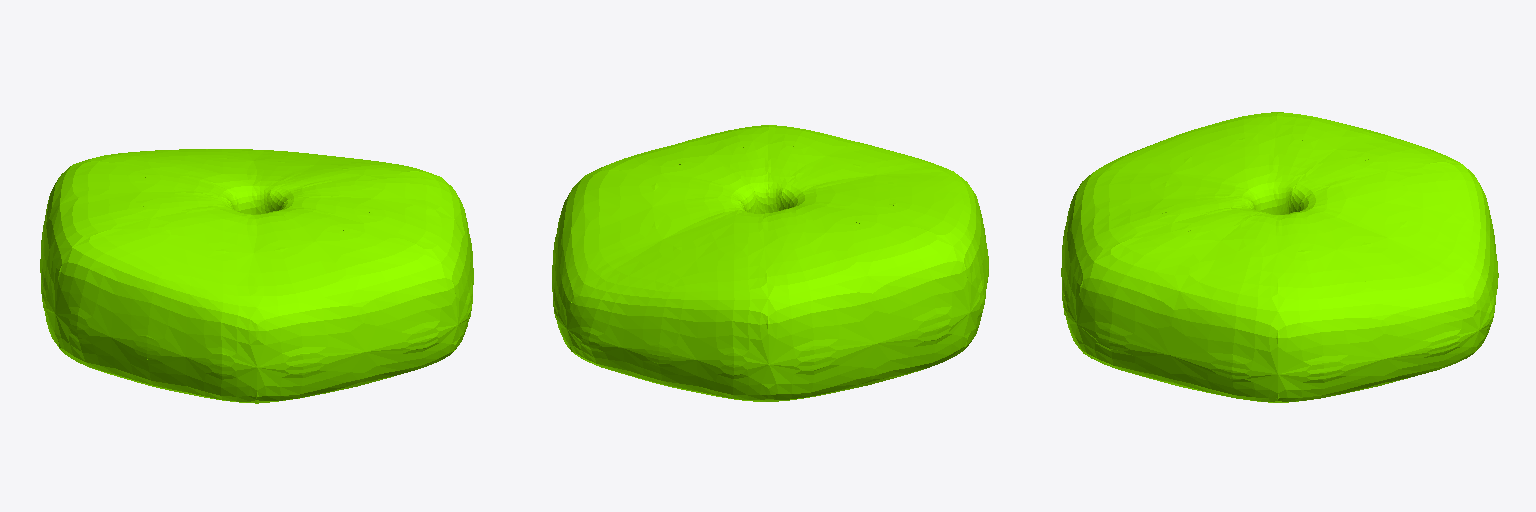
File: dirt.obj
3 renders of one model, left to right at view 1: azimuth 30°, elevation 25°; view 2: azimuth 150°, elevation 25°; view 3: azimuth 270°, elevation 25°, orthographic.
Visible parts, largest first — view 1: dirt_low; view 2: dirt_low; view 3: dirt_low.
Part boxes in pixels (bbox=[...]): dirt_low: bbox=[40, 149, 473, 403]; dirt_low: bbox=[552, 125, 988, 401]; dirt_low: bbox=[1061, 112, 1498, 402].
Size of the model in its own units: 1.92 by 0.6029 by 1.8.